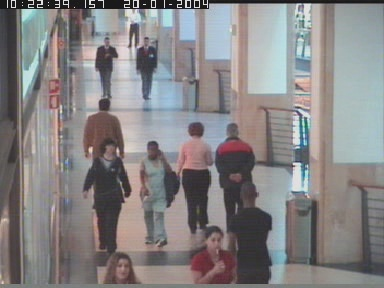person: (82, 138, 130, 252), (224, 183, 271, 283), (138, 138, 179, 247), (83, 99, 123, 207), (177, 123, 215, 233), (217, 123, 255, 233), (190, 225, 237, 283), (94, 36, 118, 99), (135, 37, 156, 101), (103, 251, 139, 285), (126, 8, 141, 47)
